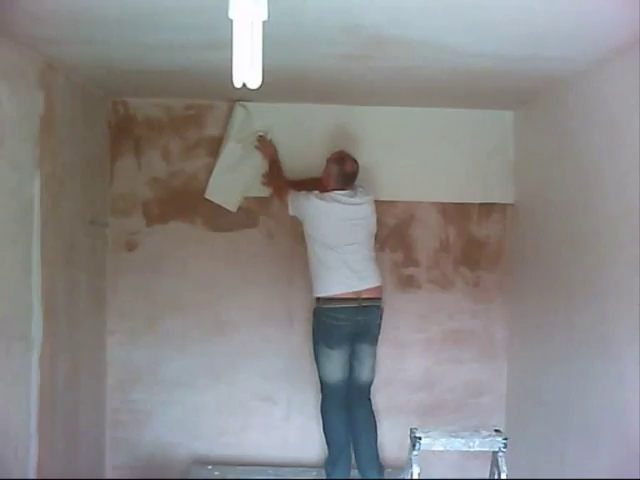person: (255, 135, 384, 478)
